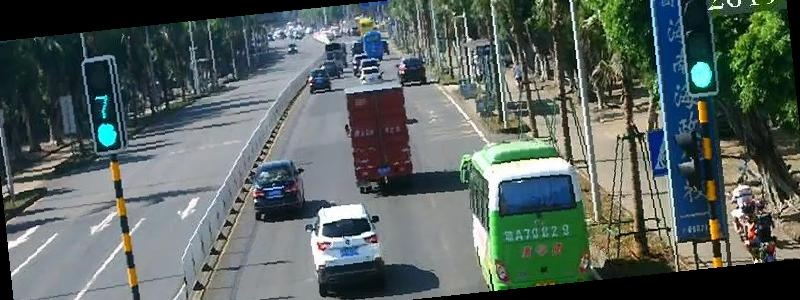green: (688, 60, 716, 88), (93, 122, 120, 150)
greentime: (90, 93, 114, 119)
